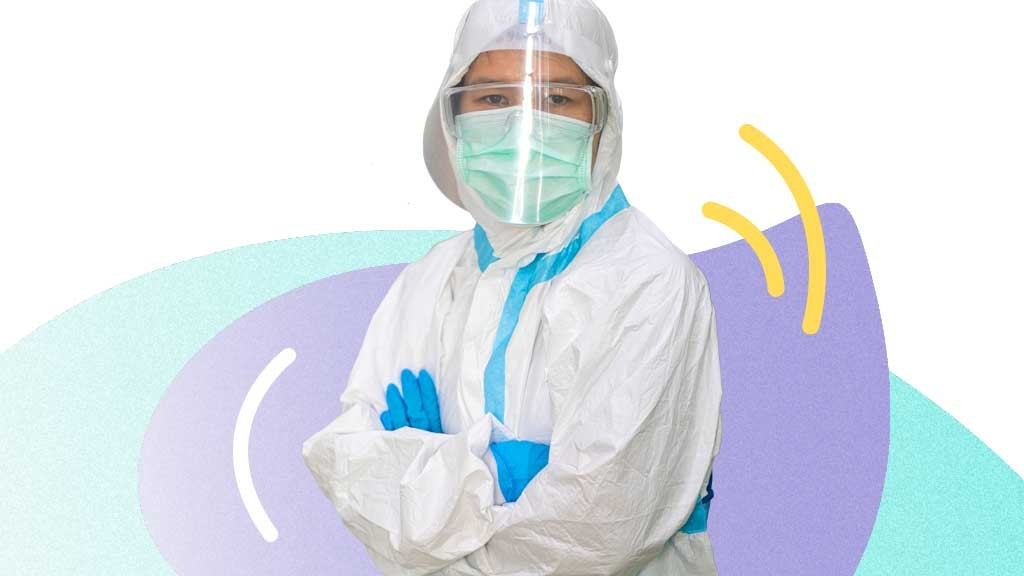Coverall: (301, 2, 726, 576)
Gloves: (368, 367, 446, 440)
Goggles: (424, 74, 608, 152)
with_mask: (458, 68, 588, 223)
